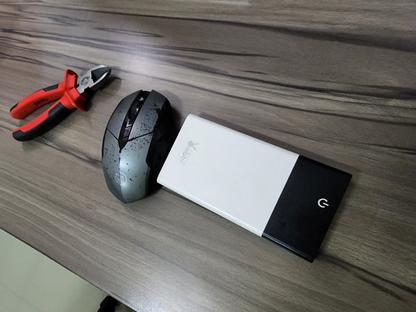mouse: (100, 87, 176, 204)
